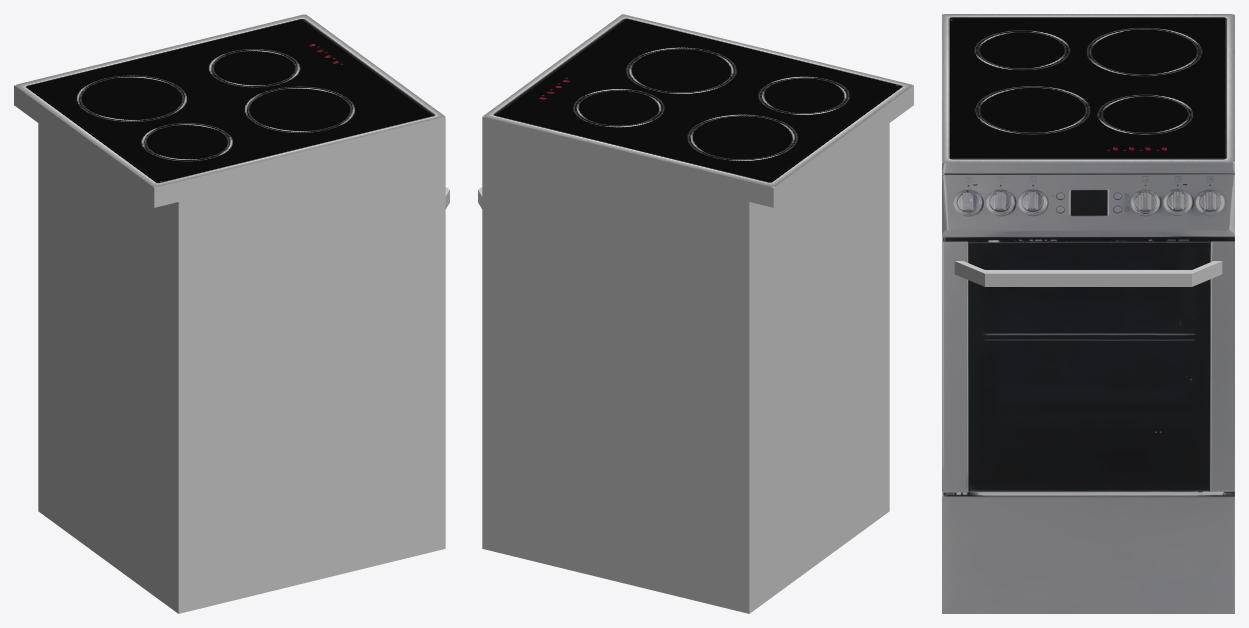
The picture shows the model from 3 angles, left to right: view 1: azimuth 30°, elevation 25°; view 2: azimuth 150°, elevation 25°; view 3: azimuth 270°, elevation 25°; orthographic projection. The views are drawn at different scales.
Visible parts, largest first — view 1: Electric_stove_grey; view 2: Electric_stove_grey; view 3: Electric_stove_grey.
Boxes of the visible parts, x1,y1,x2,y2 form: Electric_stove_grey: (14,14,449,613); Electric_stove_grey: (478,14,913,613); Electric_stove_grey: (942,14,1234,613).
Size of the model in its own units: 0.651 by 0.5 by 0.8547.
Materials: 9 (4 with a texture image).
